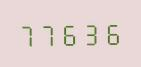seven: (18, 20, 38, 47), (39, 20, 59, 47)
six: (102, 19, 122, 46), (60, 20, 80, 46)
three: (81, 19, 101, 46)
